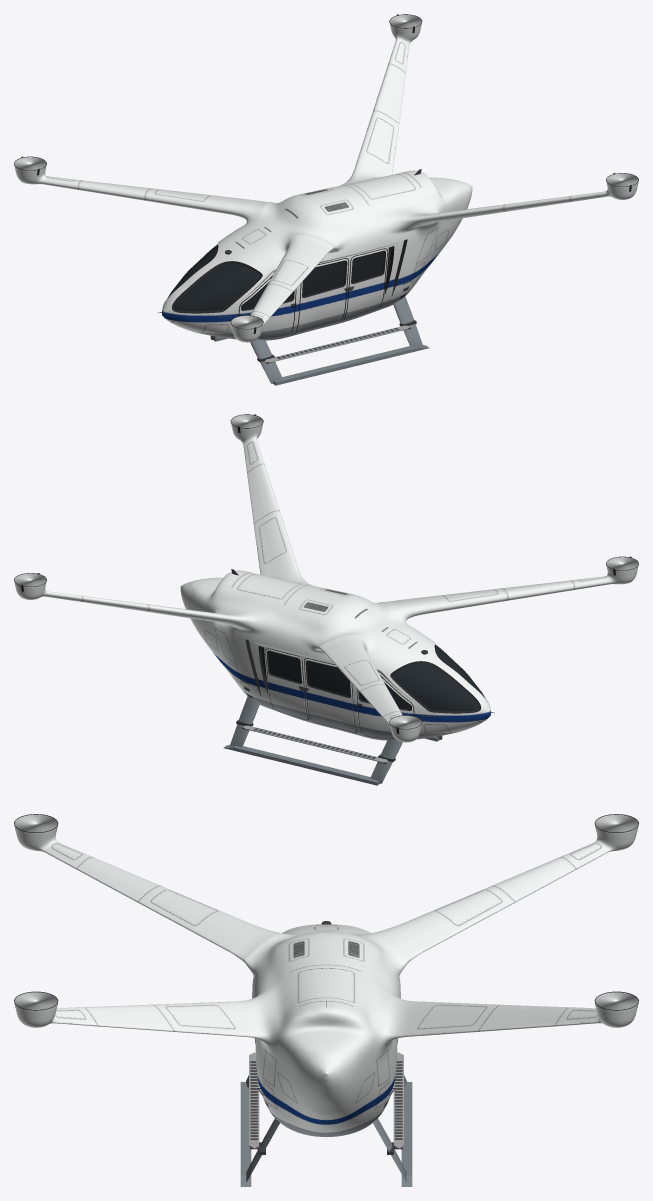
The model's file is body.glb.
3 views of the same model, one above another, from view 1: azimuth 30°, elevation 25°; view 2: azimuth 150°, elevation 25°; view 3: azimuth 270°, elevation 25° (orthographic). The views are drawn at different scales.
Parts seen in each view (by area): view 1: body.001; view 2: body.001; view 3: body.001.
Part boxes in pixels (box(x1,y1,x2,y2)): body.001: box(14, 14, 638, 385); body.001: box(14, 414, 638, 785); body.001: box(14, 814, 638, 1186).
Size of the model in its own units: 8.16 by 3.8 by 8.16.
Materials: 1 (1 with a texture image).
